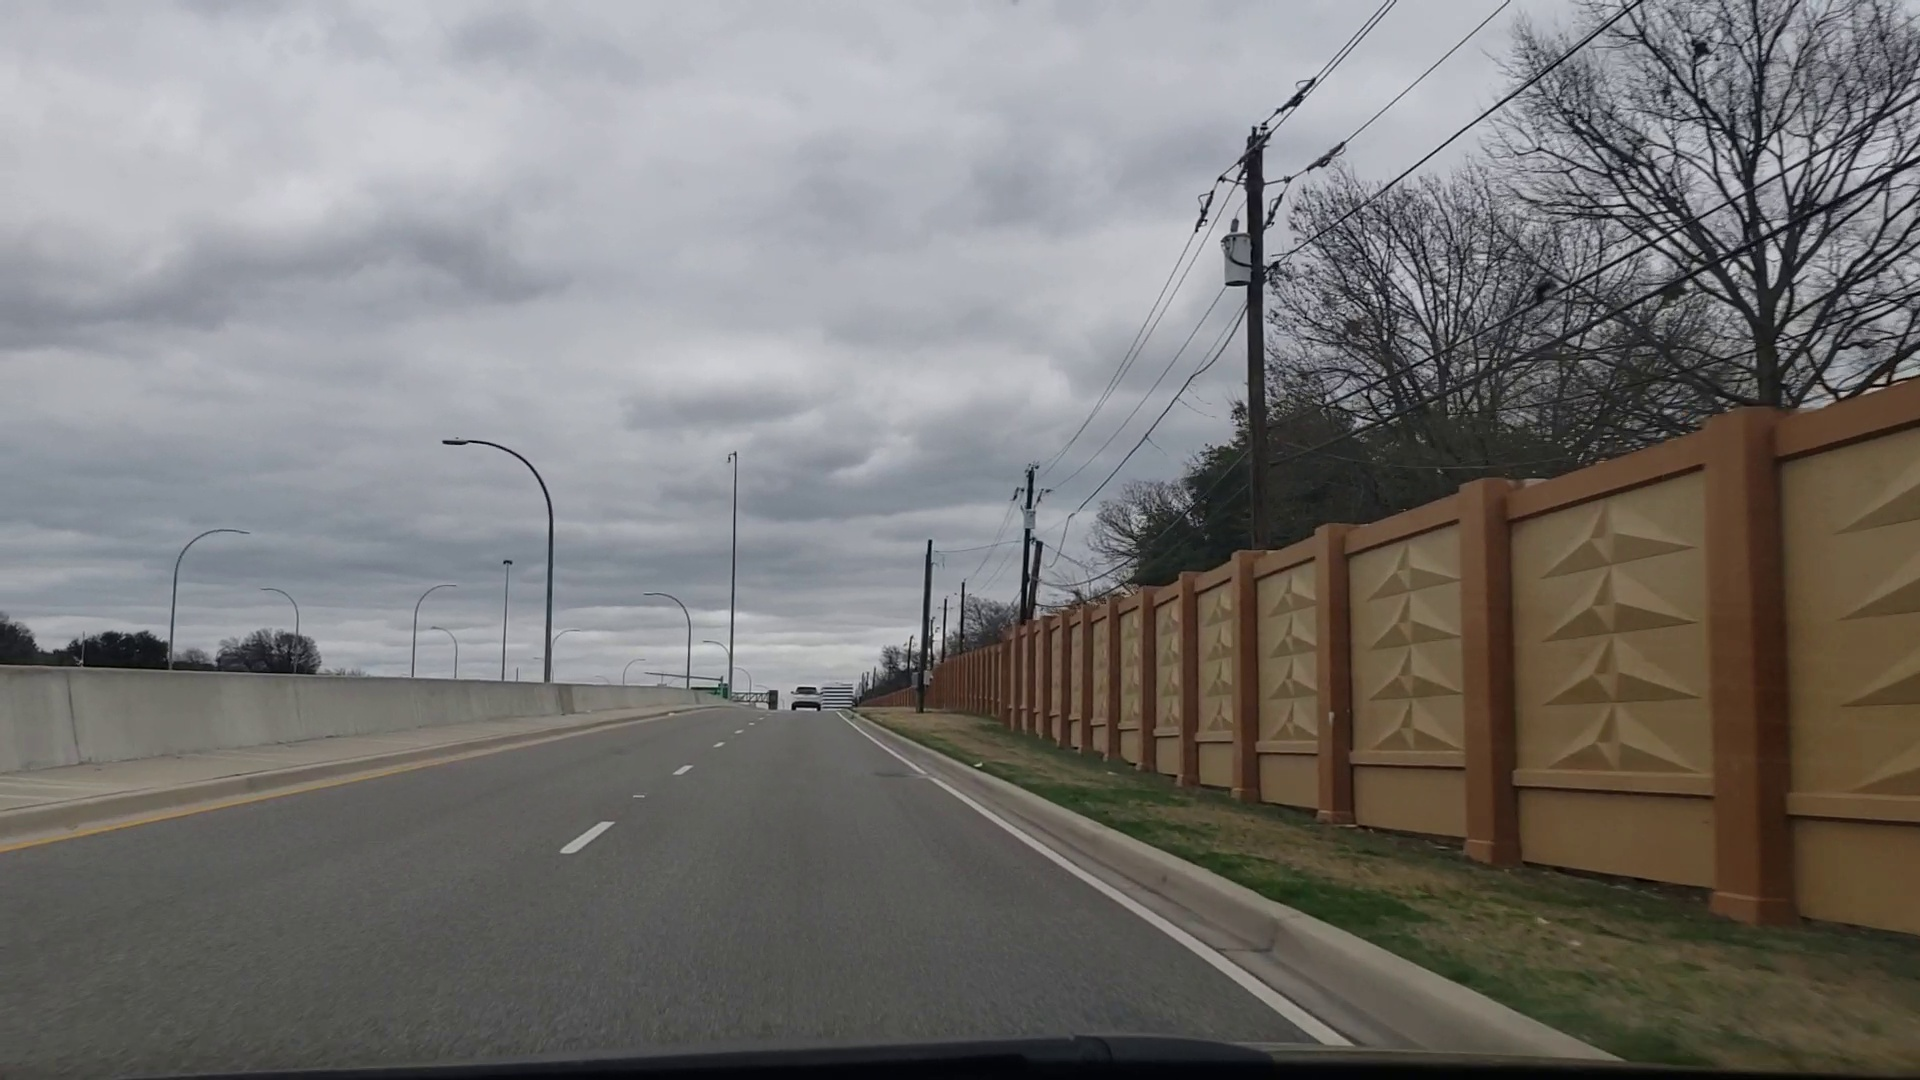car: (785, 684, 822, 713)
